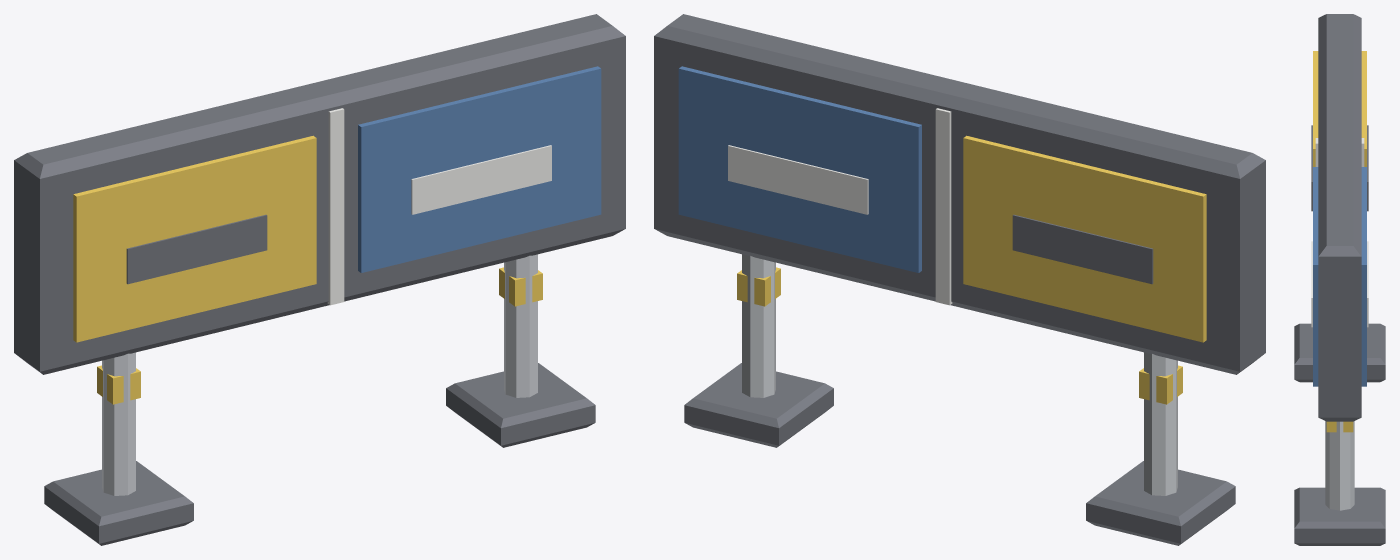
The model's file is taxiway_sign.glb.
3 renders of one model, left to right at view 1: azimuth 30°, elevation 25°; view 2: azimuth 150°, elevation 25°; view 3: azimuth 270°, elevation 25°, orthographic. The views are drawn at different scales.
Parts seen in each view (by area): view 1: taxiway-sign; view 2: taxiway-sign; view 3: taxiway-sign.
Boxes of the visible parts, left/top/right/bottom form: taxiway-sign: left=14, top=14, right=625, bottom=545; taxiway-sign: left=654, top=14, right=1265, bottom=545; taxiway-sign: left=1294, top=14, right=1385, bottom=545.
Bounding box in the file's own units: 2.1 × 1.3 × 0.3399.
1 material, 1 textured.
